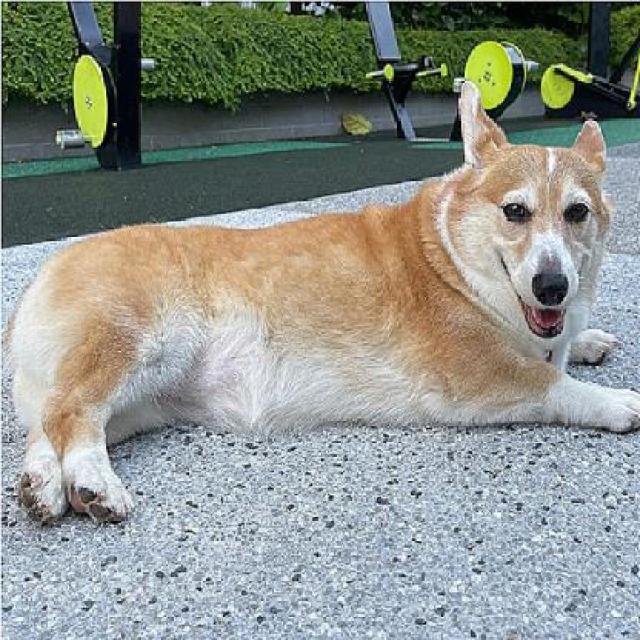Dog: (3, 78, 639, 534)
